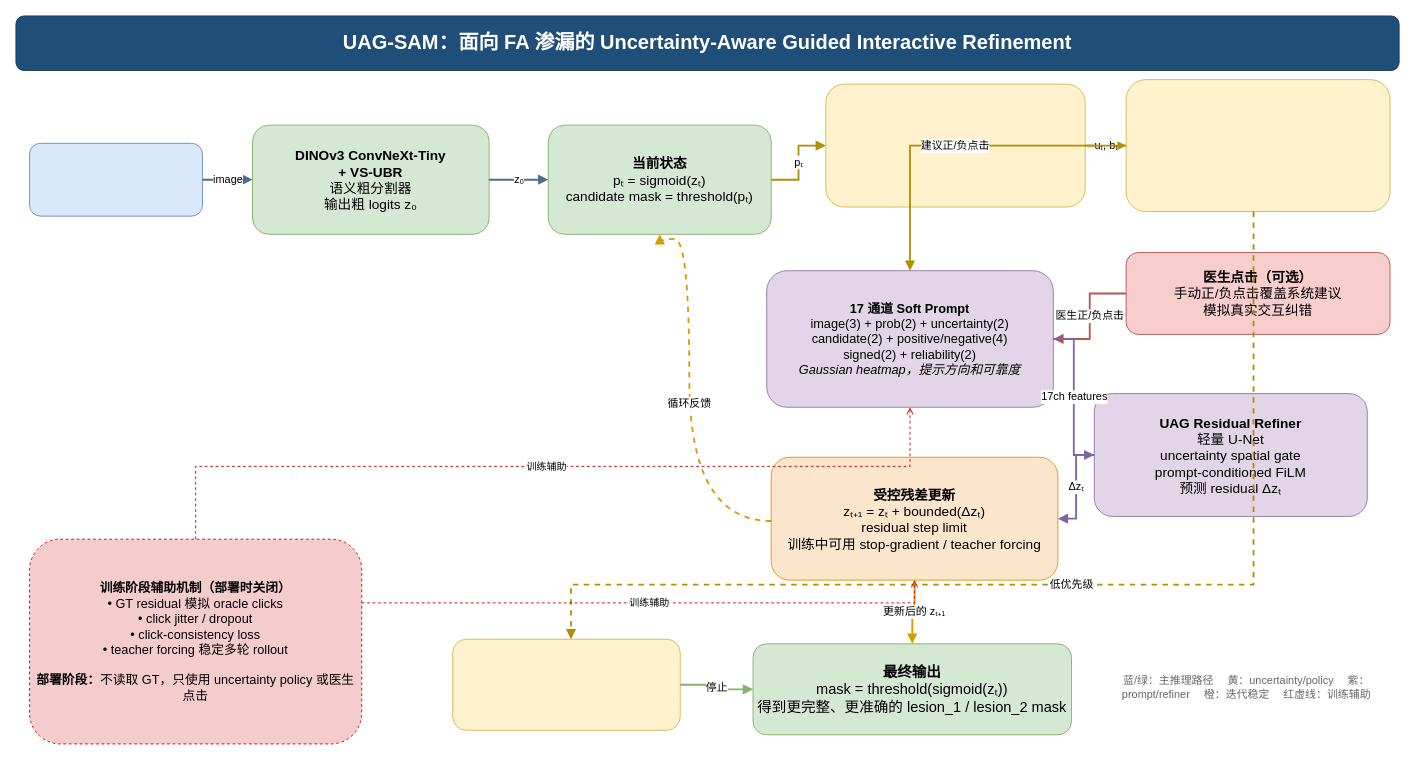
The diagram is 1415 pixels wide and 760 high, and some of its shapes have lost their labels. Here are the shapes that lost their labels. From the top down, the centre of each, then its label:
At pixel 955 145: "不确定性 + 局部边界 u = 1 − 2|pₜ − 0.5| b = |pₜ − AvgPool(pₜ)| 突出模糊边界/疑似错误区".
At pixel 1257 145: "无 GT 点击策略 s⁺：不确定的低概率区 → 正点击 s⁻：不确定的高概率区 → 负点击 NMS + 最小间距；低优先级则停止".
At pixel 115 179: "FA 原图 Fluorescein angiography".
At pixel 566 684: "交互停止判断 max(s⁺, s⁻) < min_priority → 不再询问医生".
